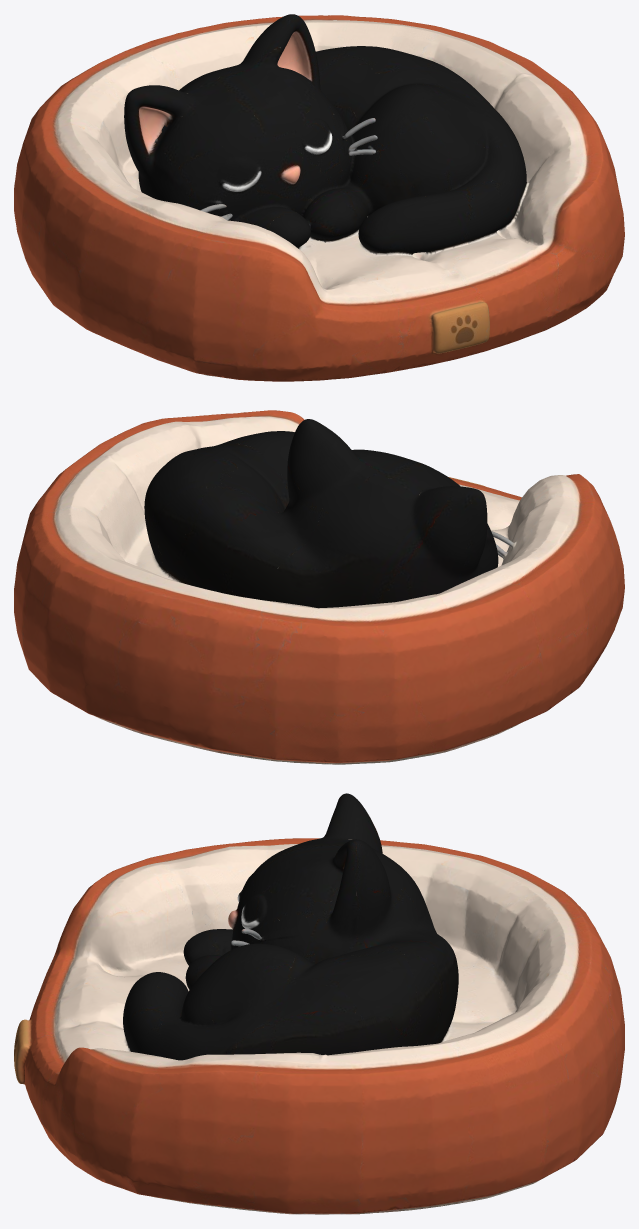
The model's file is black-catnap.glb.
The picture shows the model from 3 angles, top to bottom: view 1: azimuth 30°, elevation 25°; view 2: azimuth 150°, elevation 25°; view 3: azimuth 270°, elevation 25°; orthographic projection. The views are drawn at different scales.
Bounding box in the file's own units: 1.9 × 0.8749 × 1.9.
1 material, 1 textured.
